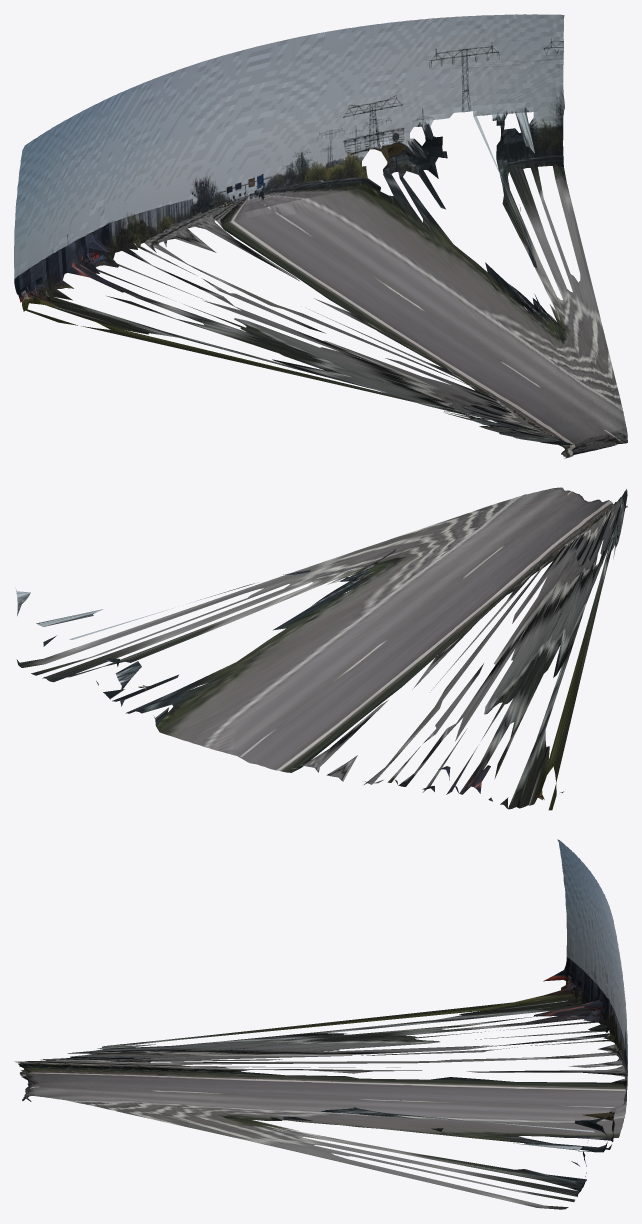
3 views of the same model, one above another, from view 1: azimuth 30°, elevation 25°; view 2: azimuth 150°, elevation 25°; view 3: azimuth 270°, elevation 25° (orthographic). The views are drawn at different scales.
Visible parts, largest first — view 1: defaultobject; view 2: defaultobject; view 3: defaultobject.
Boxes of the visible parts, <box> form: defaultobject: <box>14,14,627,458</box>; defaultobject: <box>15,487,627,810</box>; defaultobject: <box>14,839,627,1209</box>.
Size of the model in its own units: 41.14 by 13.01 by 45.
1 material, 1 textured.
